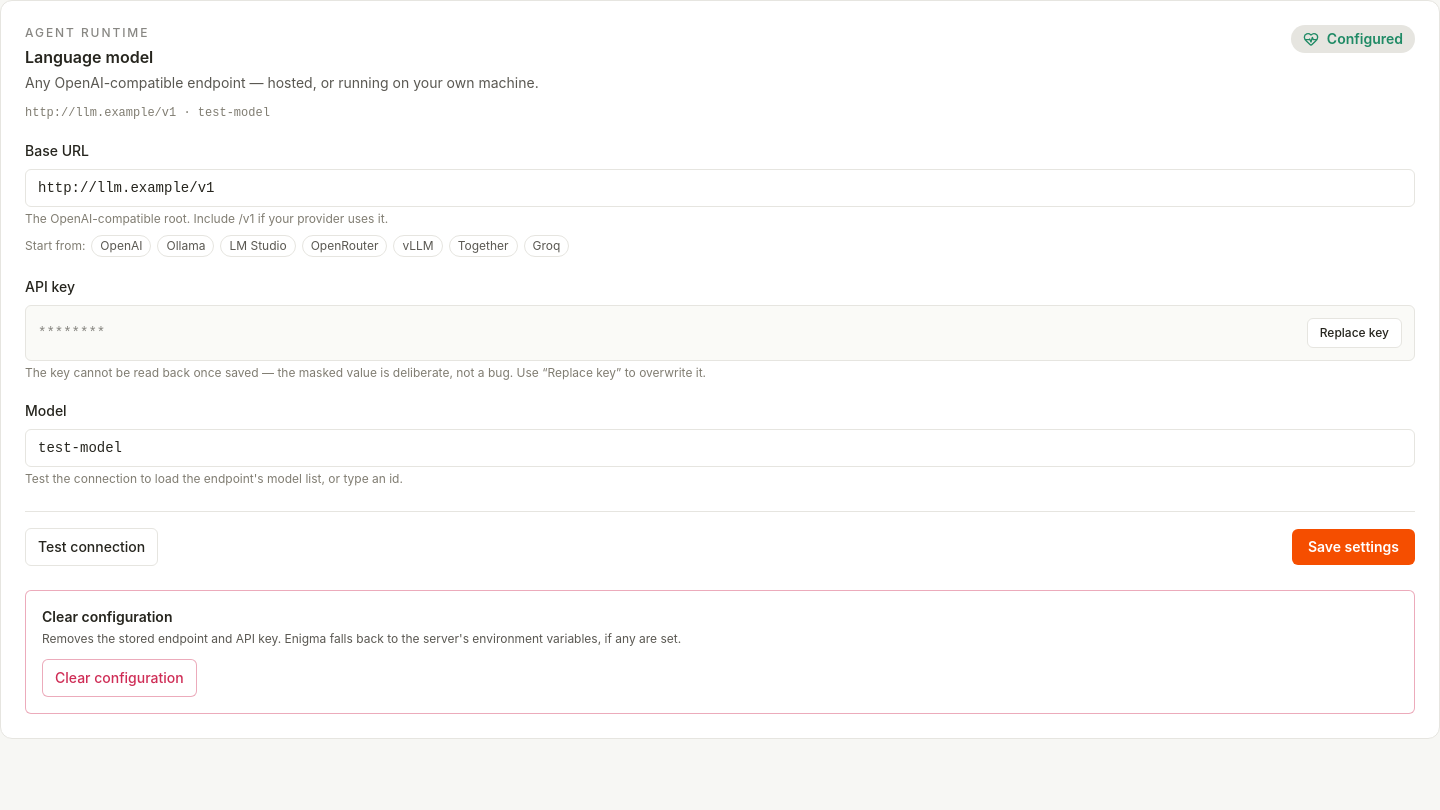
Scenario: LlmSettingsPanel › omits api_key when the key was not replaced
Replace the text in the field labelled "Model" with "gpt-4.1-nano" at point(720, 448), box [25, 429, 1415, 467]
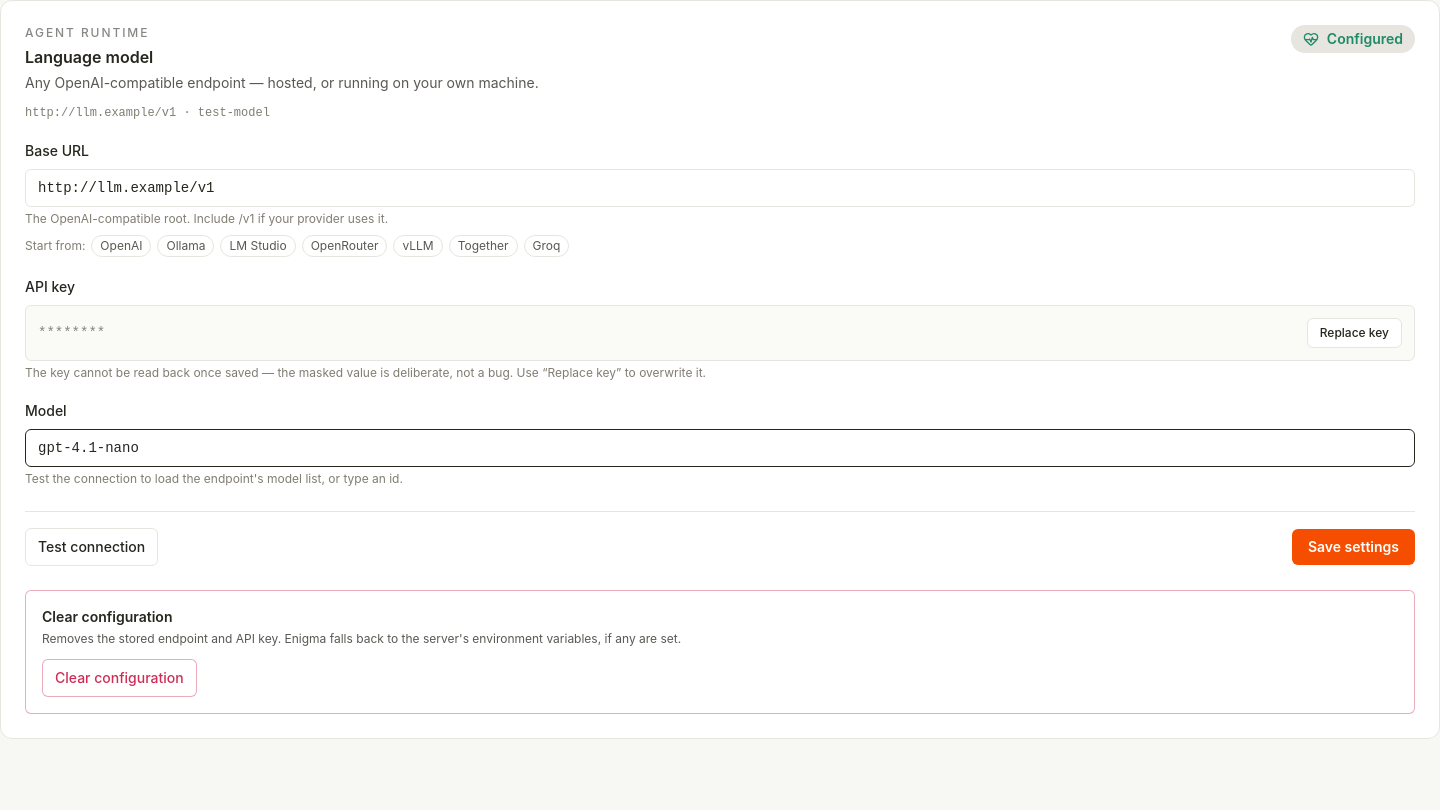
Click the button "Save settings".
click(1353, 547)  # box [1292, 529, 1415, 565]
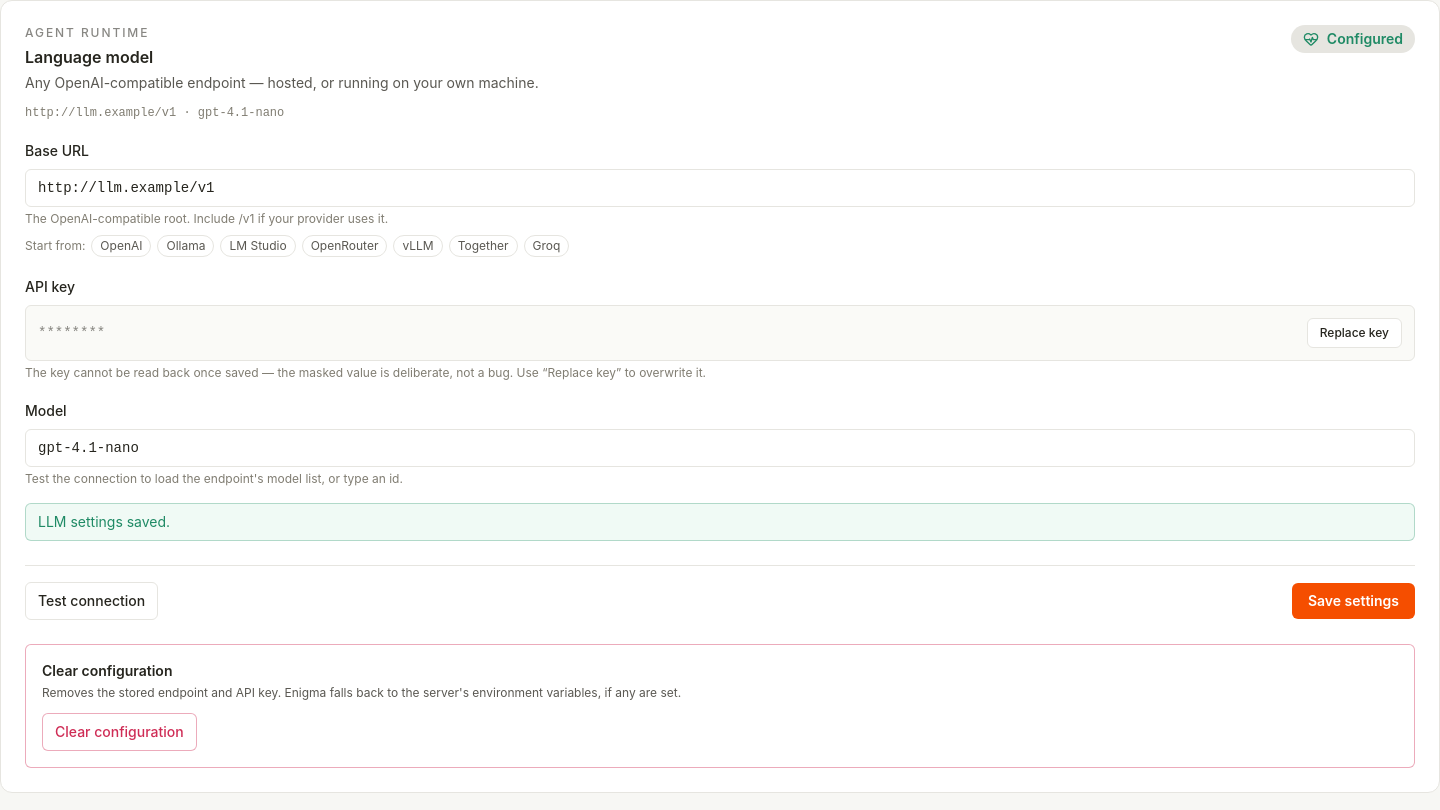
Now the text "LLM settings saved." is shown, box [25, 503, 1415, 541]
